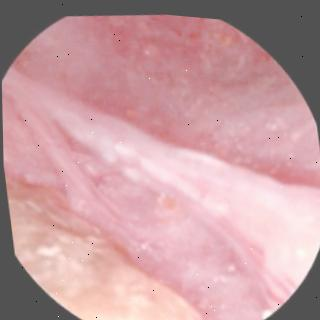stone: (4, 175, 200, 320)
tissue: (2, 11, 320, 320)
